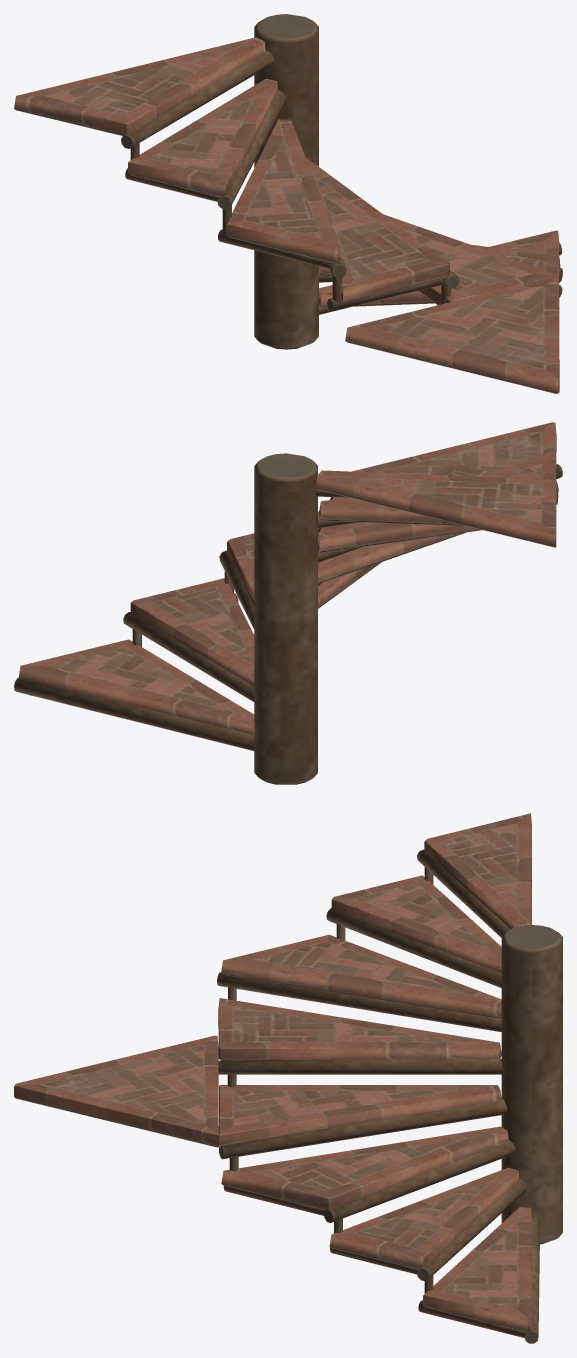
Rendered from stairs.triangle.spiral.adobe.glb.
3 views of the same model, one above another, from view 1: azimuth 30°, elevation 25°; view 2: azimuth 150°, elevation 25°; view 3: azimuth 270°, elevation 25° (orthographic). The views are drawn at different scales.
Visible parts, largest first — view 1: model; view 2: model; view 3: model.
Part boxes in pixels (x1,y1,x2,y2): model: (14, 14, 562, 393); model: (14, 422, 562, 784); model: (14, 813, 562, 1343).
Size of the model in its own units: 2.78 by 1.51 by 2.54.
1 material, 1 textured.
